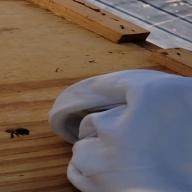Bee: (2, 124, 36, 140)
